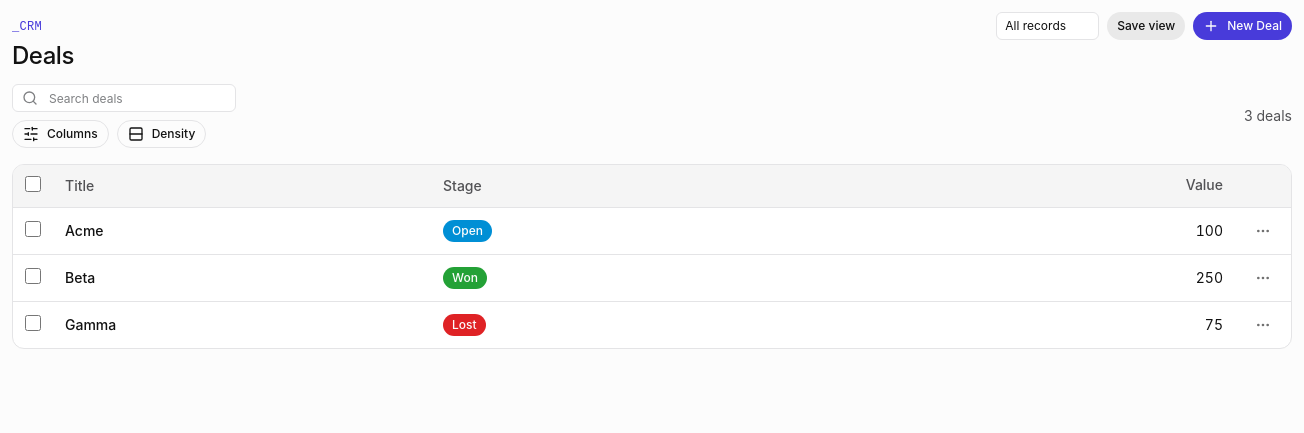
Test case: RecordListPage › Select-all toggles every visible row at once
The image size is (1304, 433).
Expected: the text "Acme" is shown, left=65, top=222, right=104, bottom=239
What coordinates should you click on to do the following:
click the checkbox named "Select all rows"
I would click on:
 (33, 184)
Its box is left=25, top=176, right=41, bottom=192.
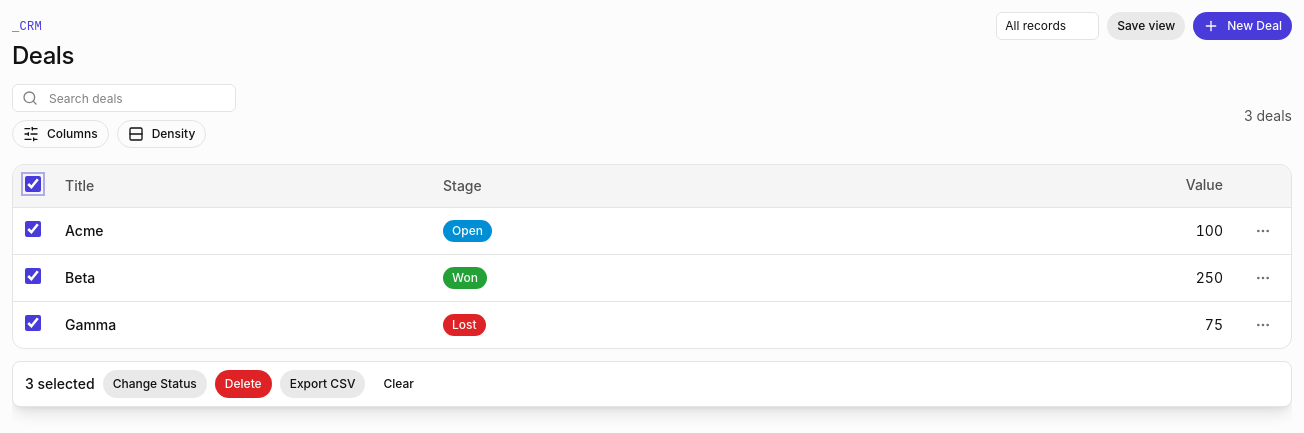
Expected: the text "3 selected" is shown, left=25, top=374, right=95, bottom=394
